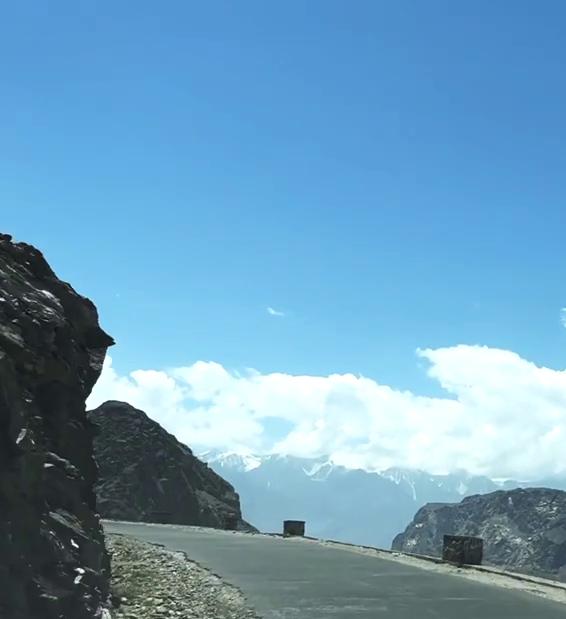right: (97, 442, 523, 603)
